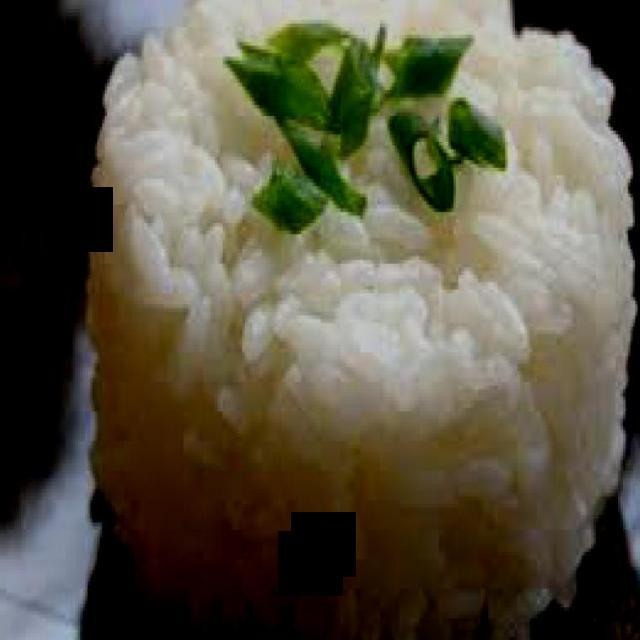Chicken -Chicken Inasal-: (89, 3, 627, 631)
